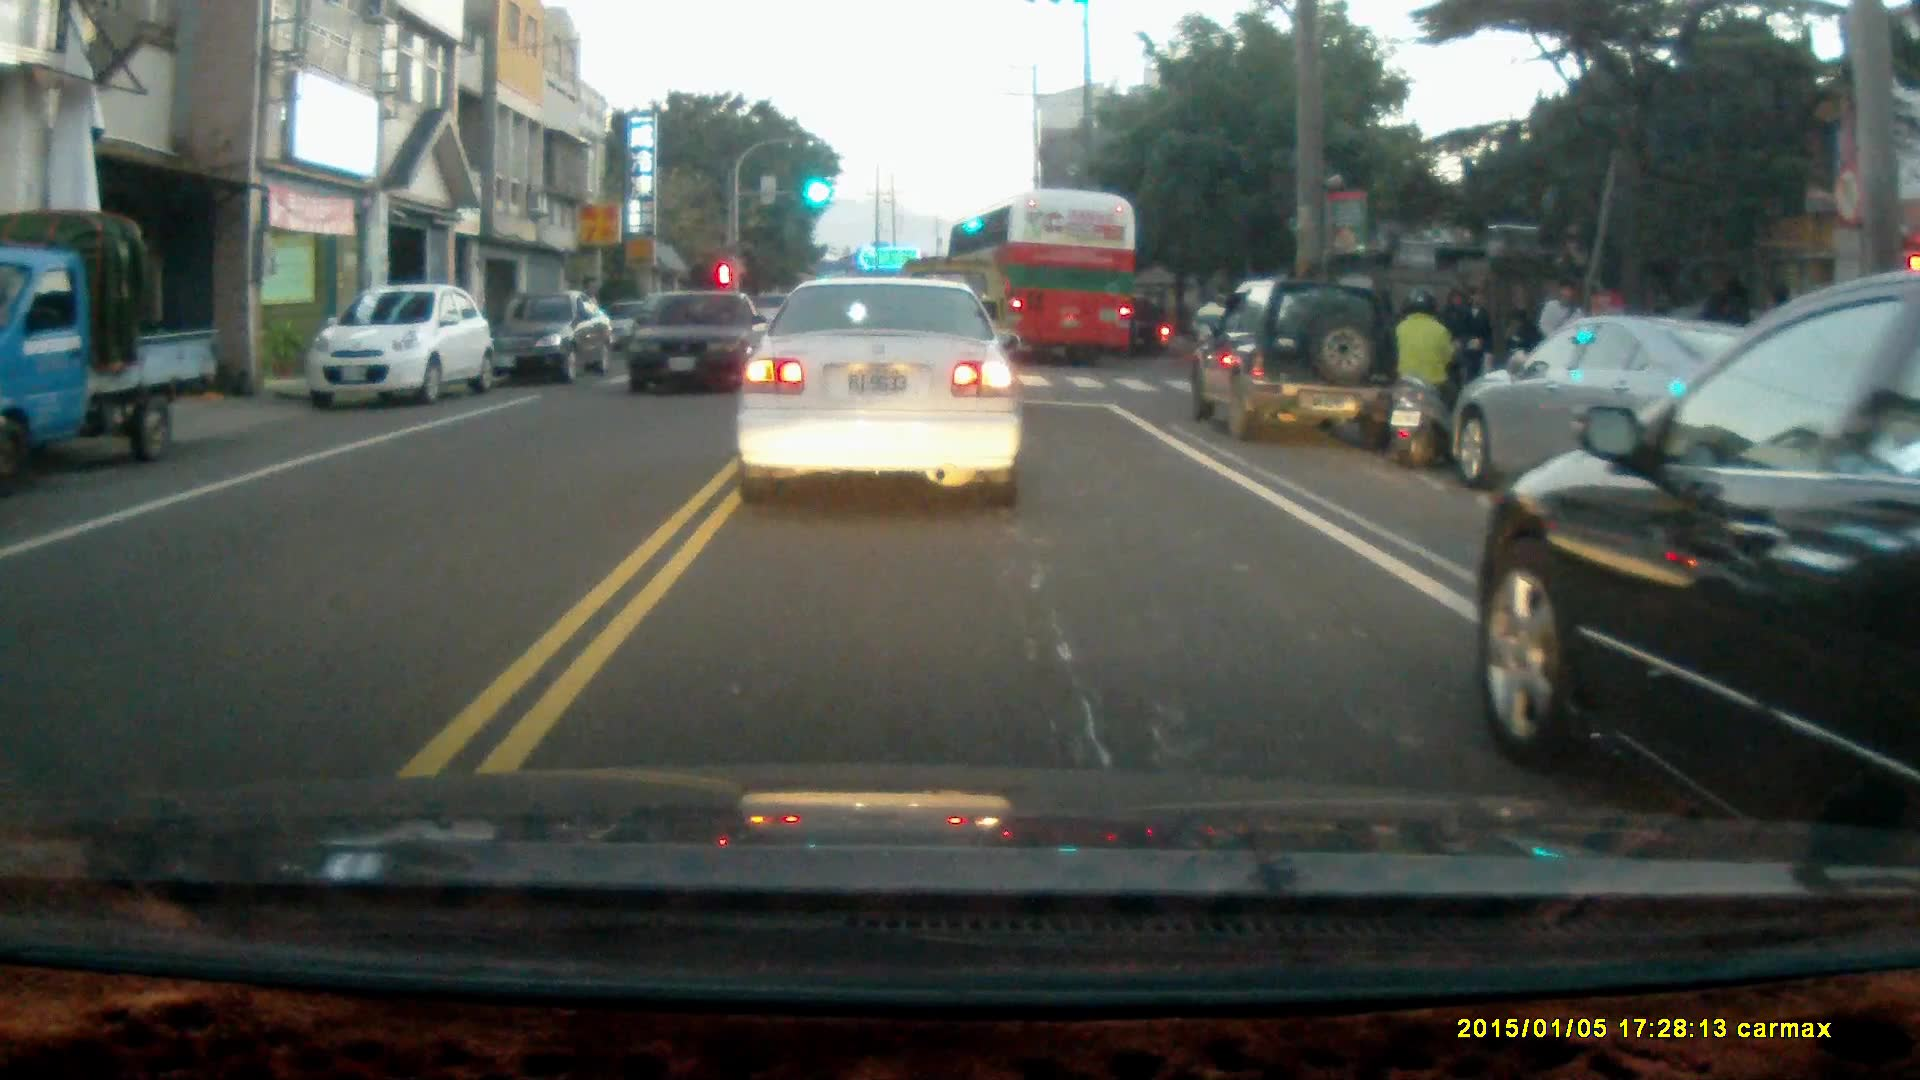pedestrian: (1533, 274, 1588, 396), (1449, 283, 1496, 410)
rider: (1386, 282, 1467, 470), (1114, 293, 1175, 354)
vehicle: (1481, 260, 1920, 821), (731, 272, 1025, 509), (1452, 312, 1798, 496), (1, 213, 226, 466), (1193, 275, 1410, 445), (952, 188, 1145, 365), (309, 285, 491, 406), (624, 290, 765, 397), (494, 287, 614, 382)
